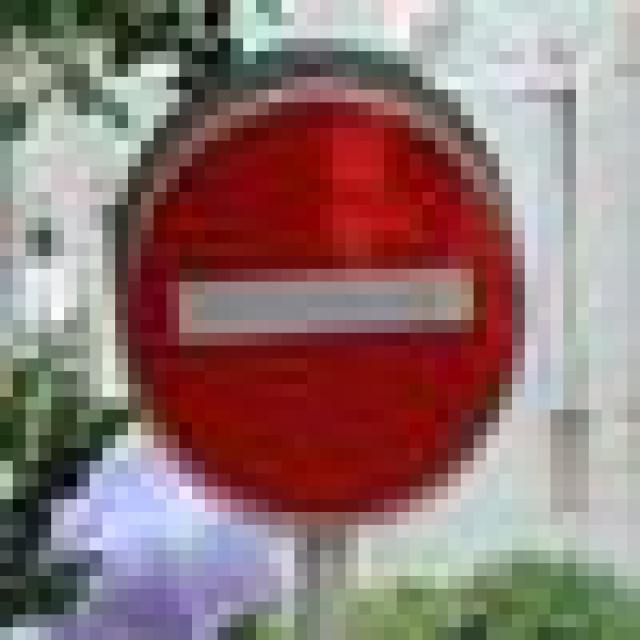NO_ENTRY: (115, 90, 512, 512)
